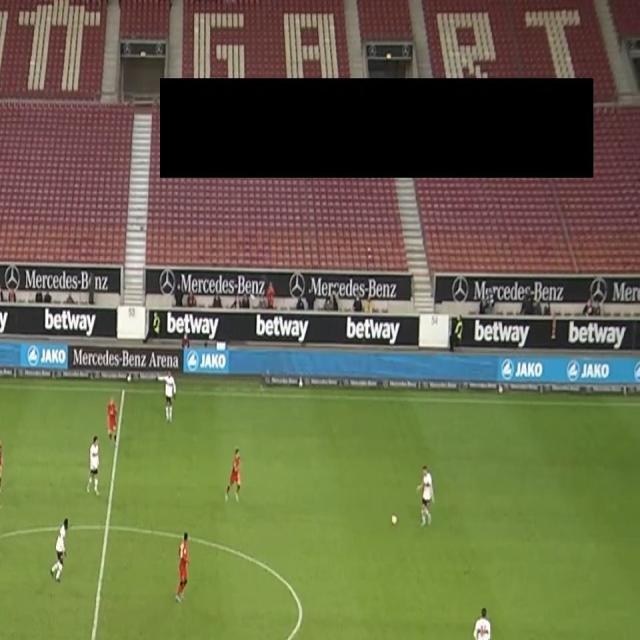ball: (390, 514, 398, 528)
